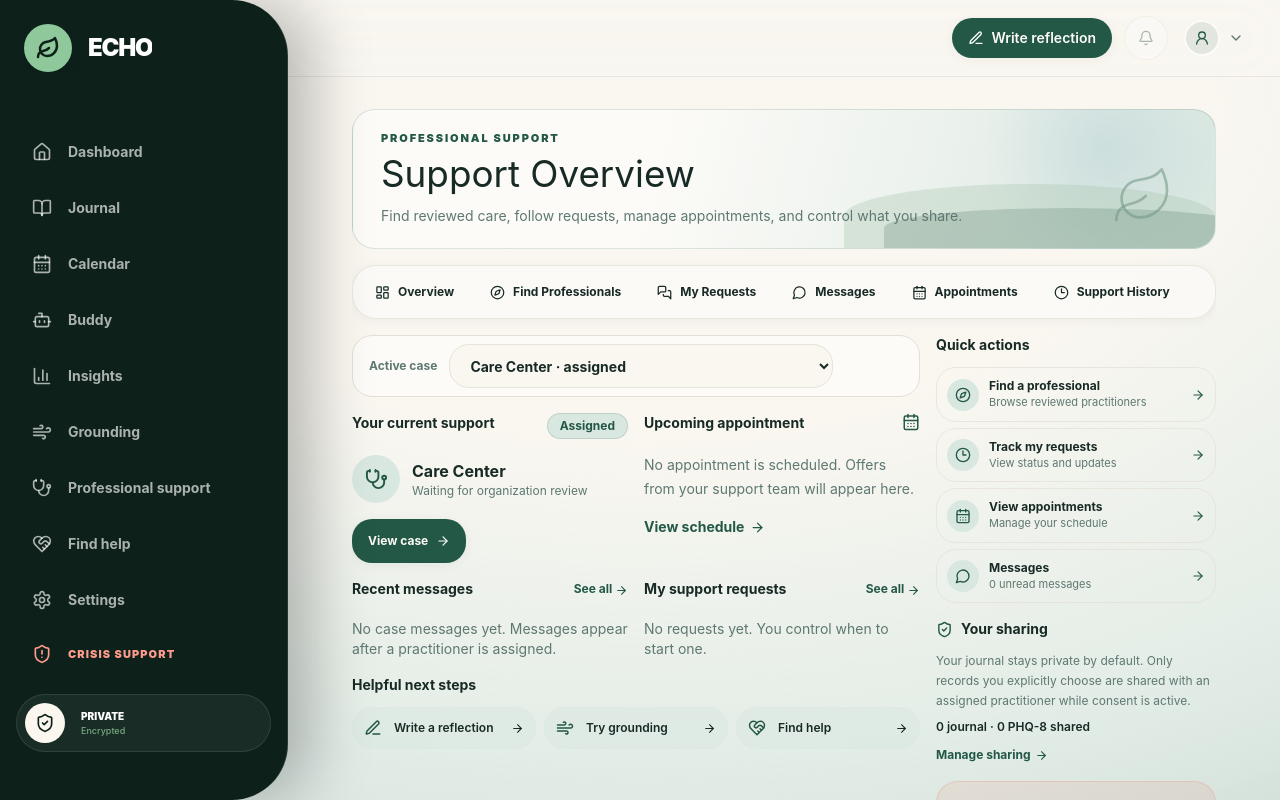
Test: ProfessionalSupportHubView › loads the hub once and lets users switch active cases
Expected: the text "Care Center" is shown, [412,462,506,482]
Select "Second Center · assigned" in the dropdown labelled "Active case": coordinates (641, 366) [449,344,833,388]
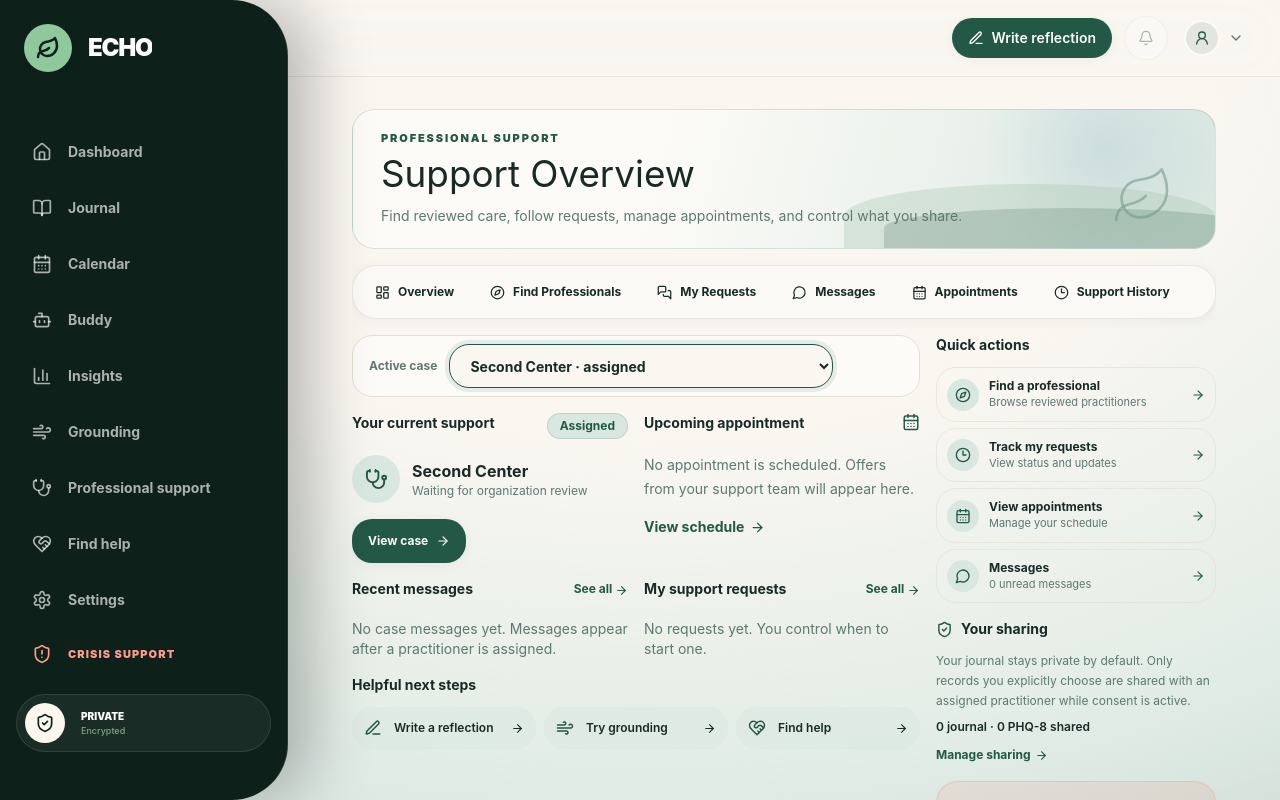
Expected: the text "Second Center" is shown, [412,462,528,482]
